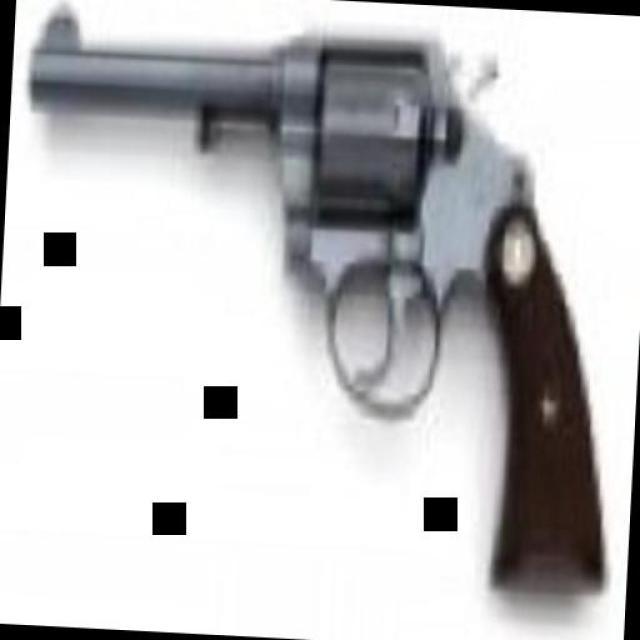gun: (5, 0, 637, 600)
